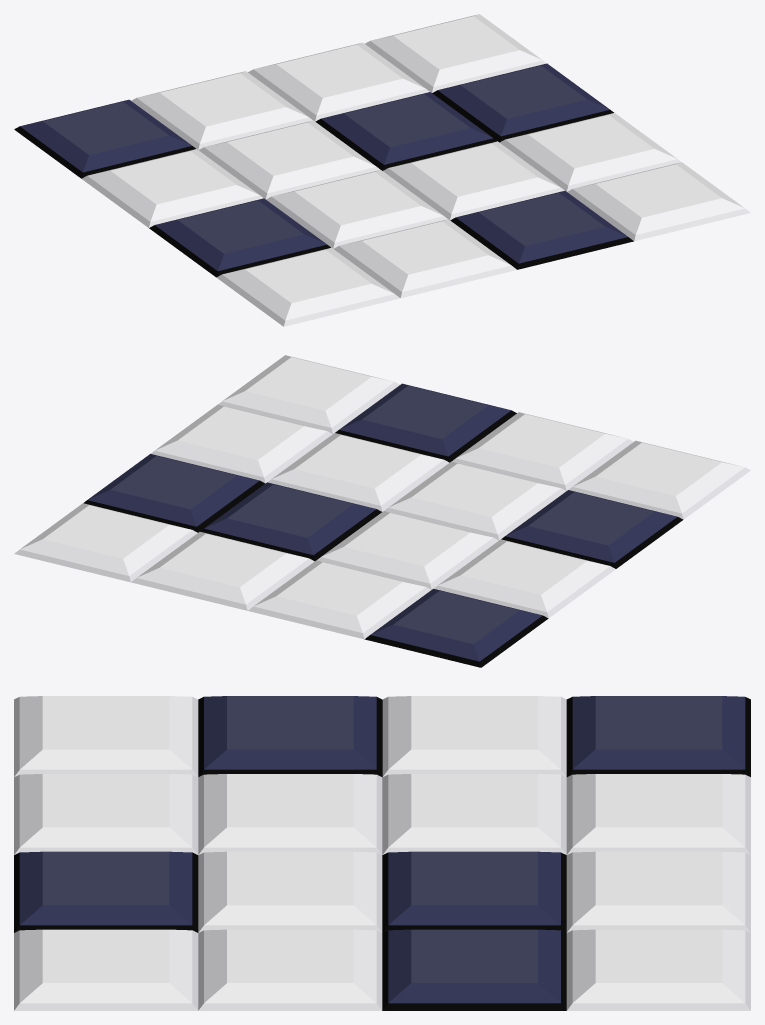
3 renders of one model, top to bottom at view 1: azimuth 30°, elevation 25°; view 2: azimuth 150°, elevation 25°; view 3: azimuth 270°, elevation 25°, orthographic. The views are drawn at different scales.
Size of the model in its own units: 128 by 3 by 128.
Materials: 1 (1 with a texture image).
